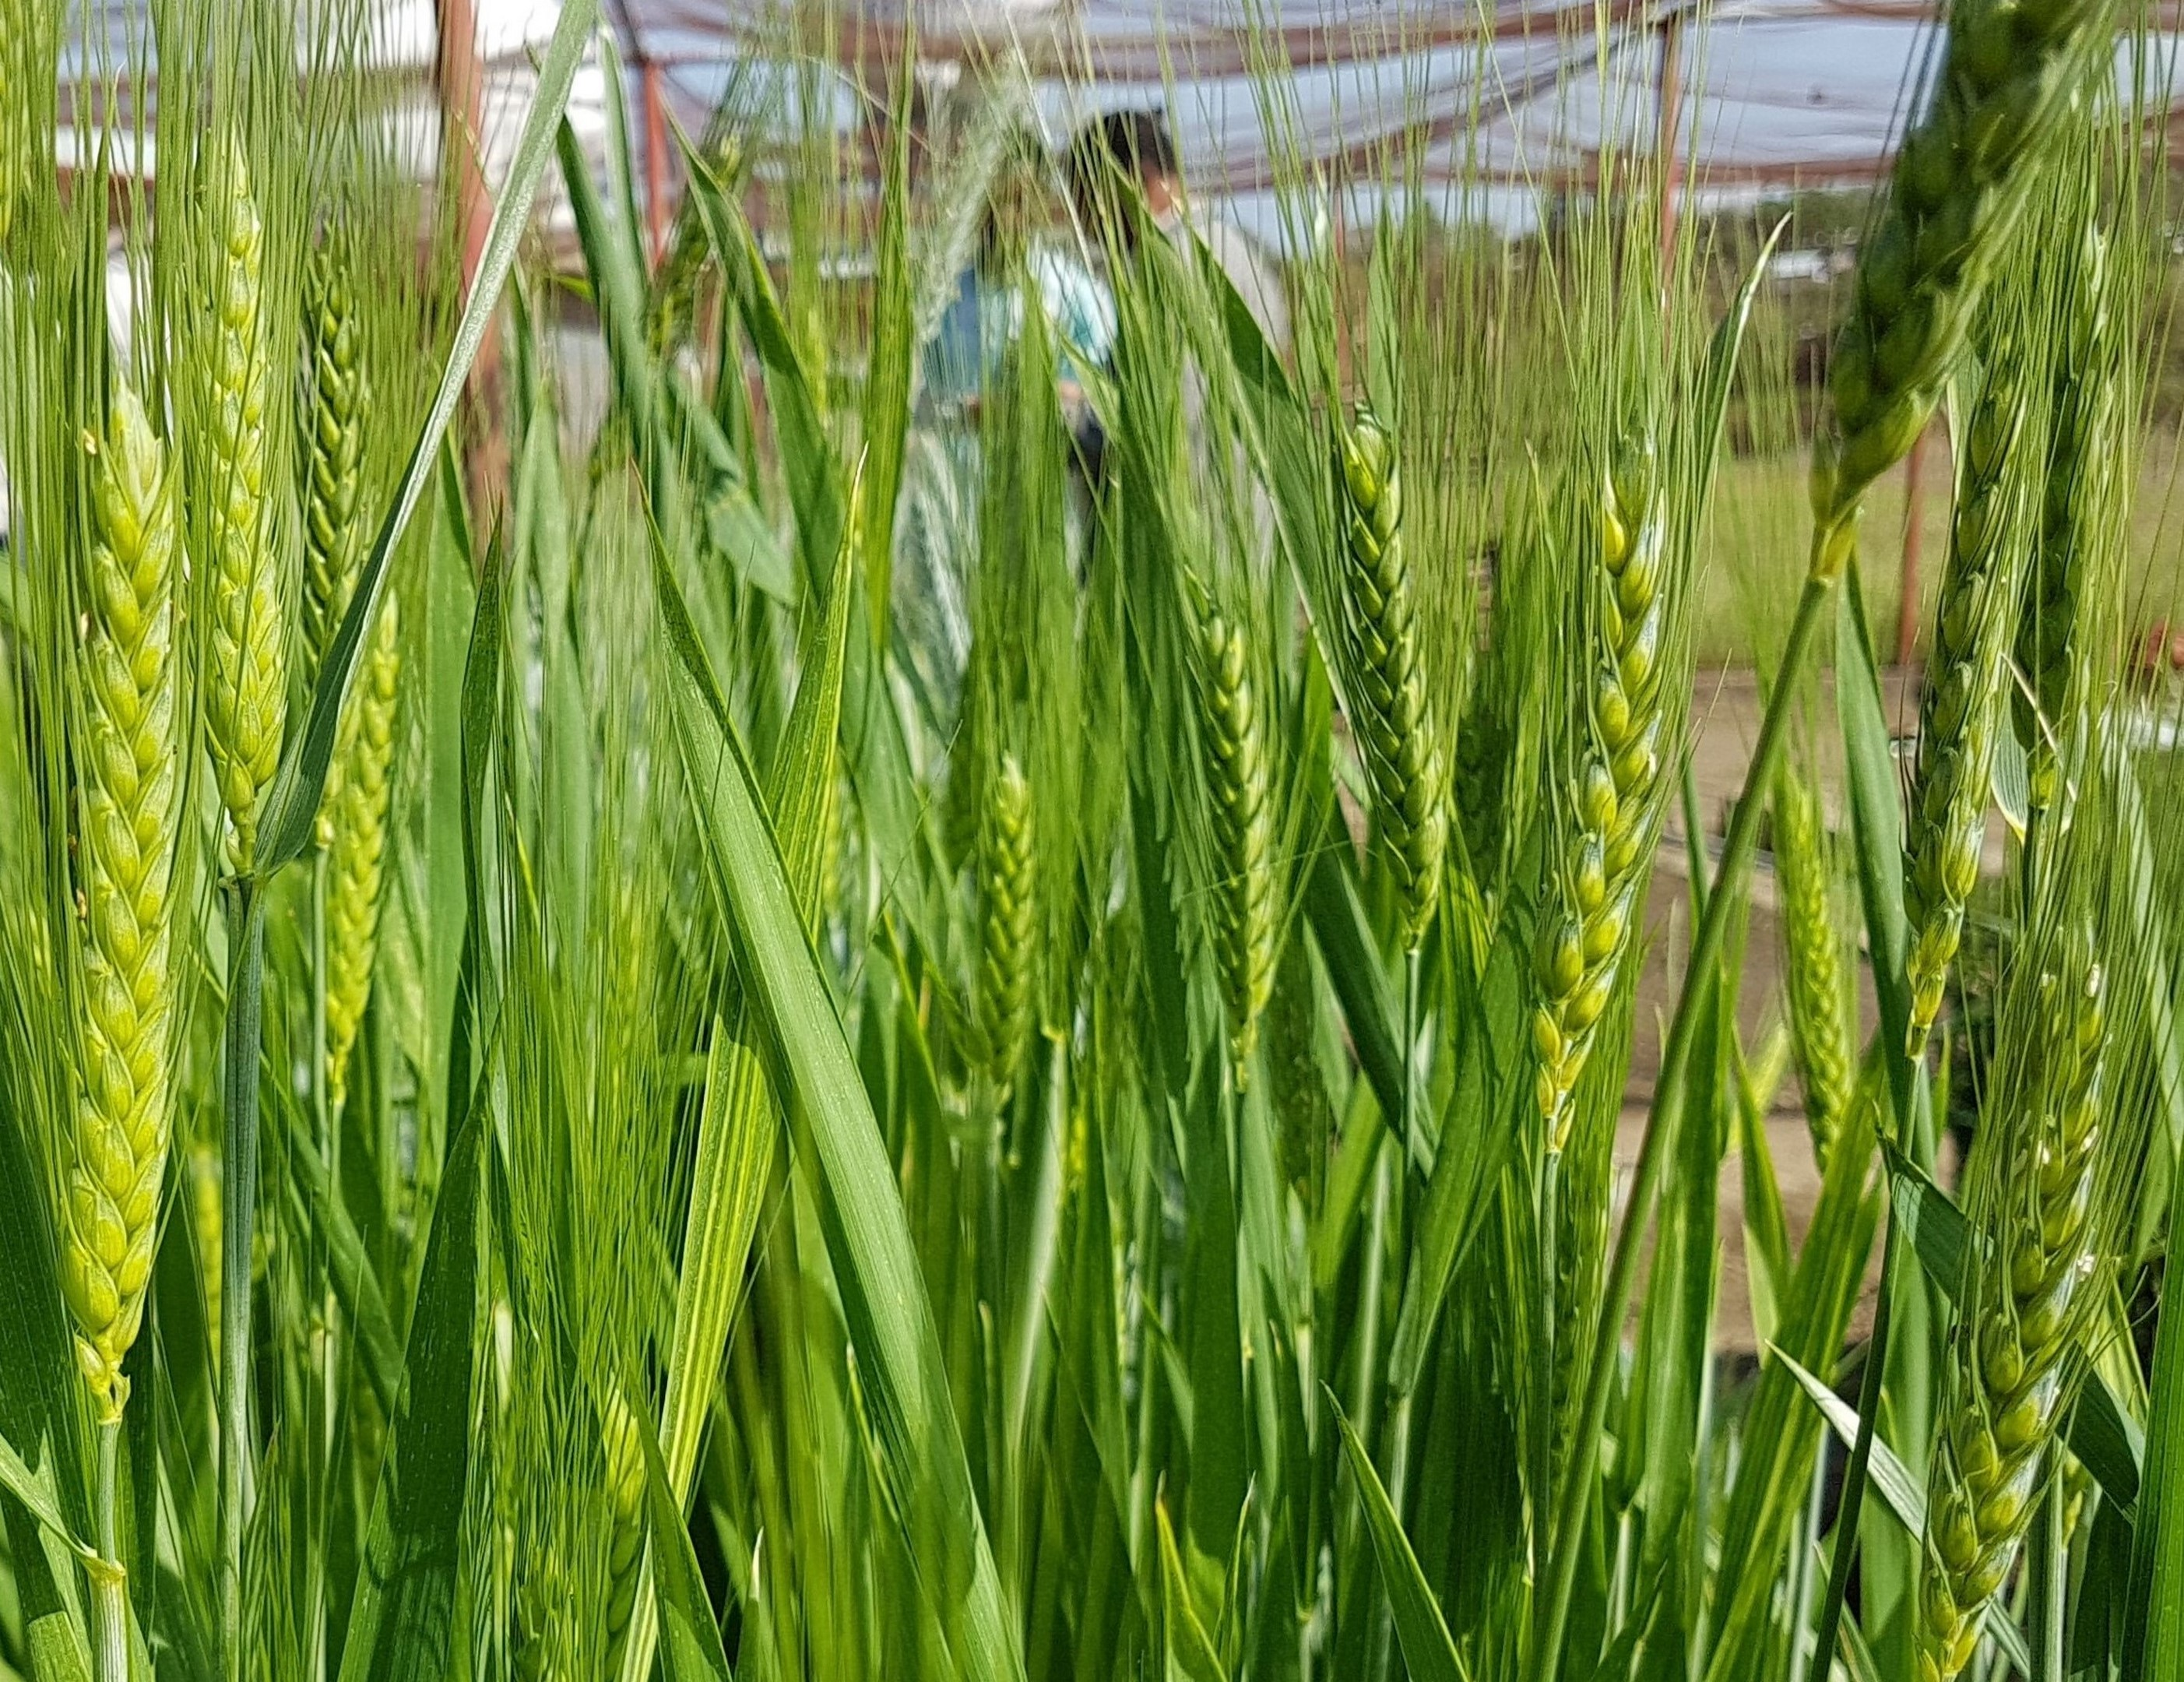Healthy Wheat: (42, 383, 198, 1390), (1308, 367, 1483, 942)
